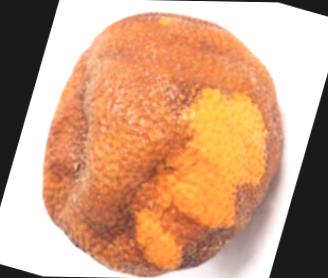Orange Rotten: (35, 6, 295, 278)
